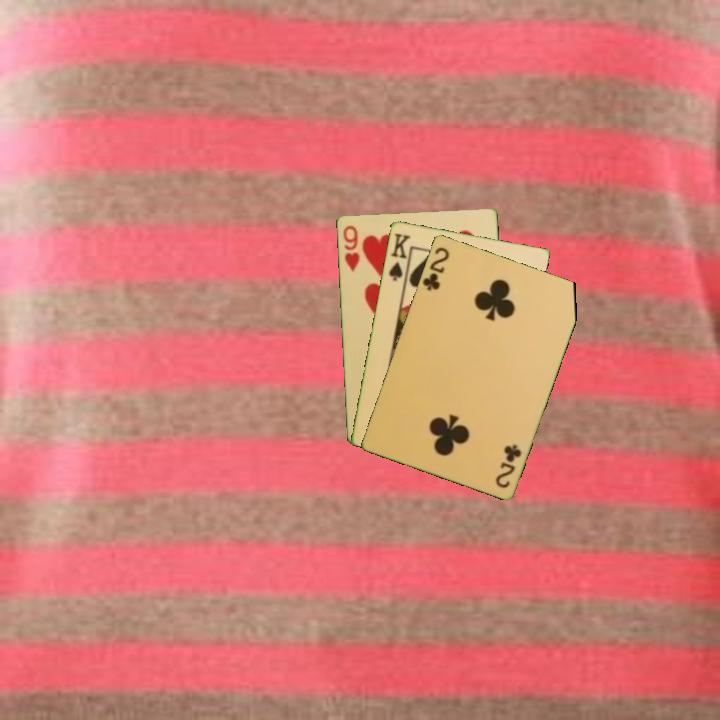2c: (419, 243, 452, 293), (492, 440, 524, 491)
9h: (339, 222, 362, 274)
Ks: (385, 229, 413, 285)
